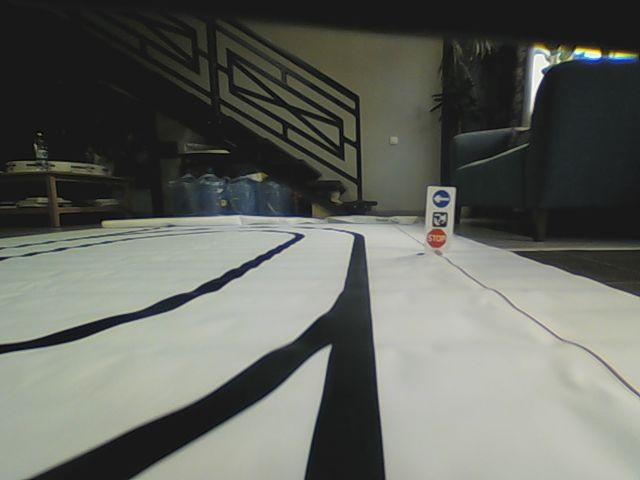Stop: (426, 227, 448, 248)
